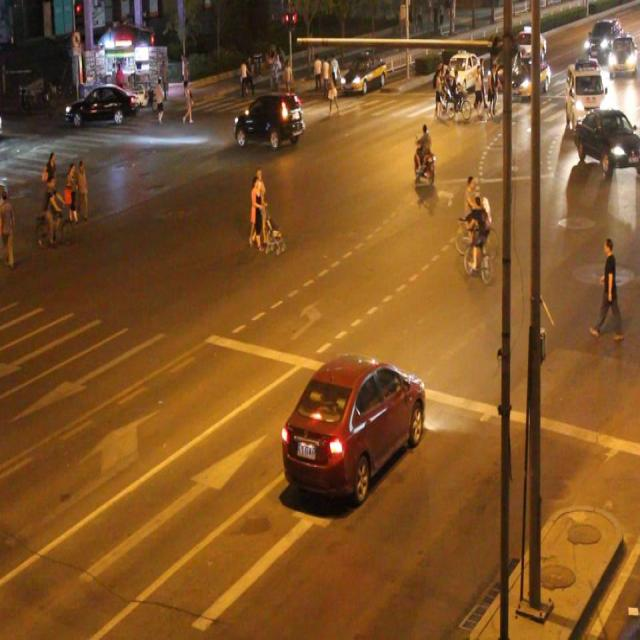car: (280, 351, 426, 500), (572, 108, 640, 176), (233, 91, 305, 150), (563, 60, 607, 134)
